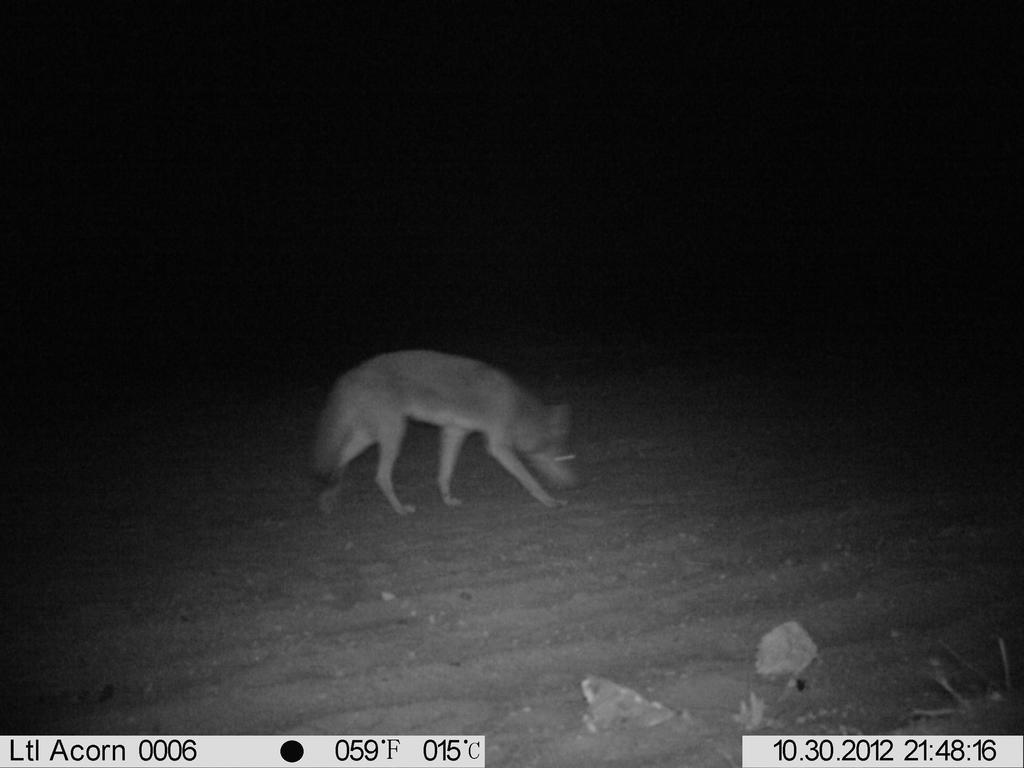coyote: (301, 345, 587, 533)
